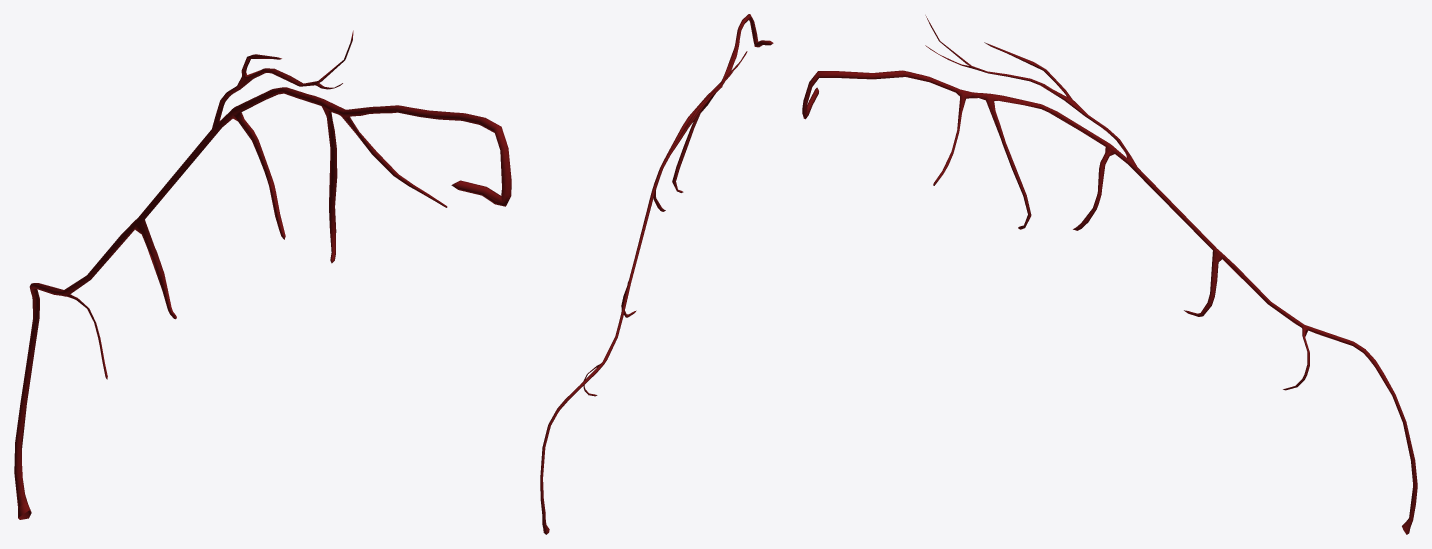
The model's file is L arteria cervicalis profunda.fbx.
3 views of the same model, side by side, from view 1: azimuth 30°, elevation 25°; view 2: azimuth 150°, elevation 25°; view 3: azimuth 270°, elevation 25° (orthographic). The views are drawn at different scales.
Visible parts, largest first — view 1: L arteria cervicalis profunda, L arteria cervicalis profunda low; view 2: L arteria cervicalis profunda, L arteria cervicalis profunda low; view 3: L arteria cervicalis profunda, L arteria cervicalis profunda low.
Boxes of the visible parts, <box> form: L arteria cervicalis profunda: <box>14,30,511,519</box>; L arteria cervicalis profunda low: <box>14,57,511,518</box>; L arteria cervicalis profunda: <box>540,14,773,534</box>; L arteria cervicalis profunda low: <box>541,18,765,531</box>; L arteria cervicalis profunda: <box>802,15,1417,534</box>; L arteria cervicalis profunda low: <box>802,45,1416,534</box>.
Bounding box in the file's own units: 5.03 × 28.66 × 31.35.
